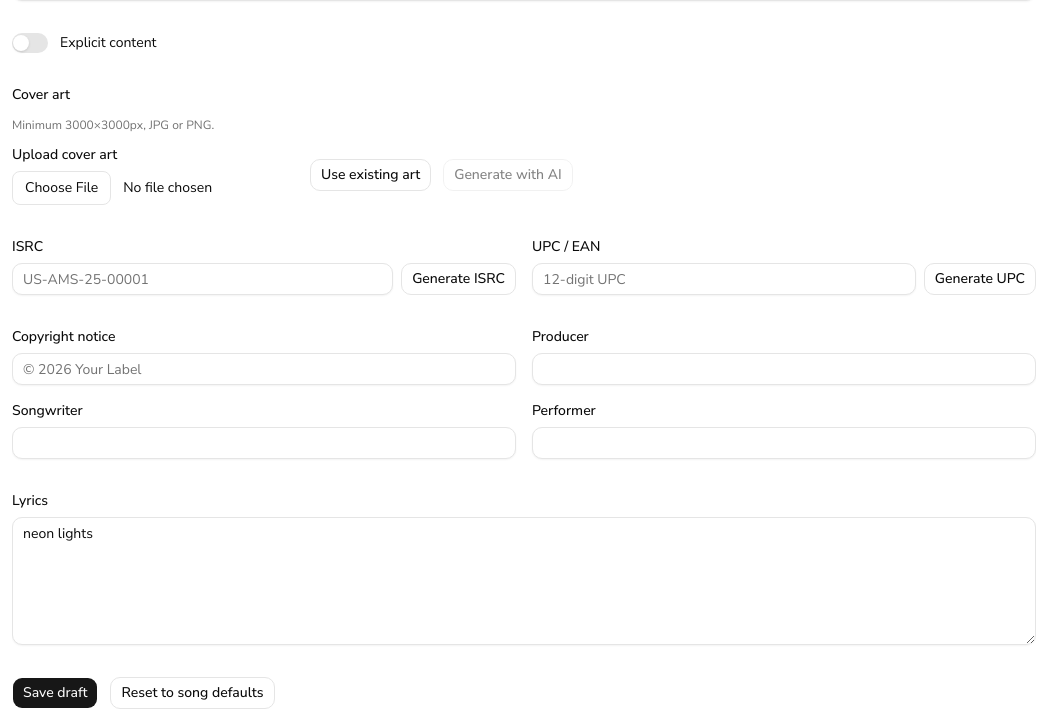
Test: DistributionForm › highlights missing required fields on save (AC5)
This screenshot has width=1048, height=709.
(page scrolled)
Click the button "Save draft".
click(55, 693)  # box [12,677,98,708]
(page scrolled)
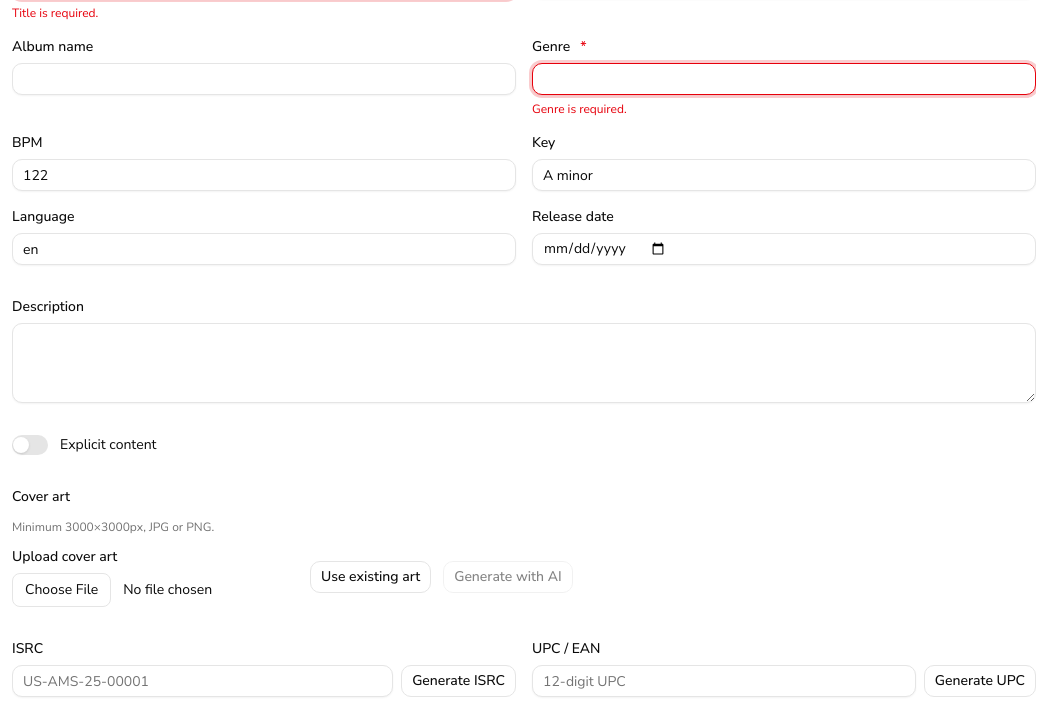
Expected: the text "Title is required." is shown, [12,5,98,21]
Expected: the text "Genre is required." is shown, [532,101,627,117]
